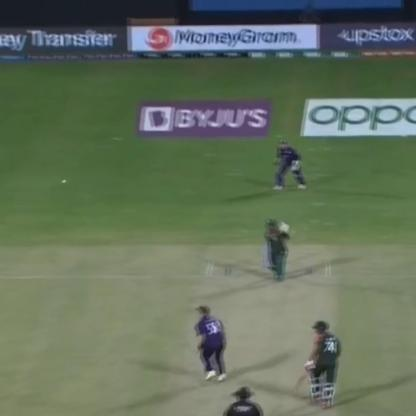ball: (57, 175, 71, 186)
pitch: (181, 246, 337, 415)
